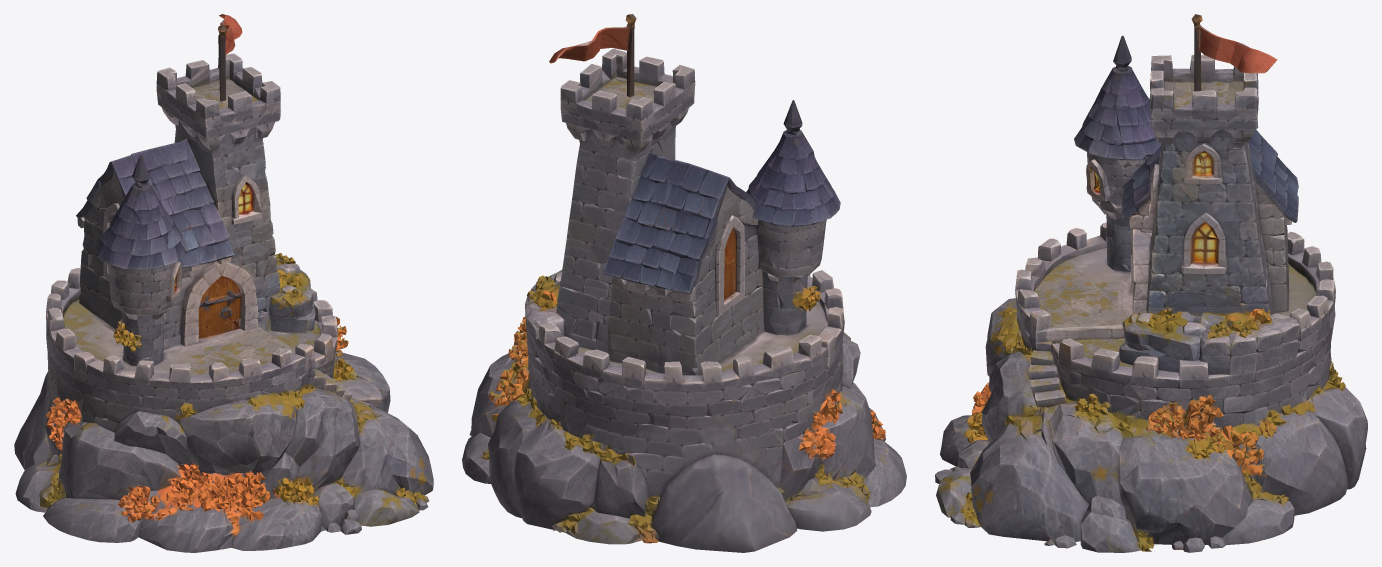
The model's file is belvedere-castle.glb.
3 renders of one model, left to right at view 1: azimuth 30°, elevation 25°; view 2: azimuth 150°, elevation 25°; view 3: azimuth 270°, elevation 25°, orthographic. The views are drawn at different scales.
Size of the model in its own units: 17.62 by 20 by 17.06.
1 material, 1 textured.
